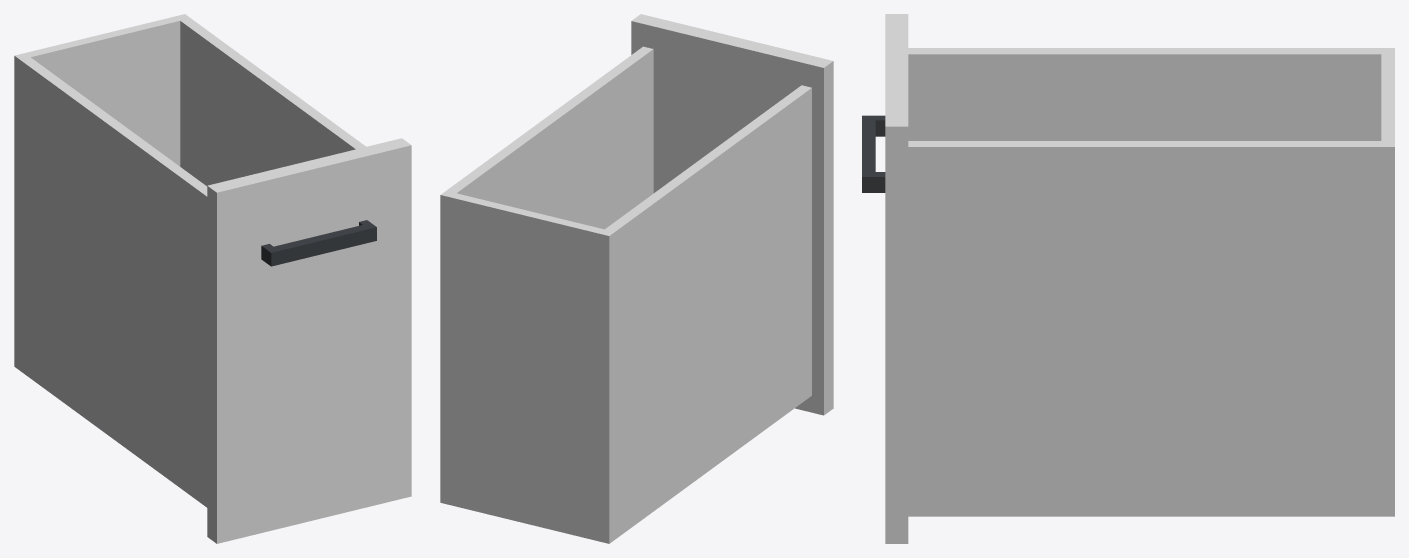
Rendered from Door2_C1_08.fbx.
3 views of the same model, side by side, from view 1: azimuth 30°, elevation 25°; view 2: azimuth 150°, elevation 25°; view 3: azimuth 270°, elevation 25° (orthographic). The views are drawn at different scales.
Visible parts, largest first — view 1: Door2_C1_08; view 2: Door2_C1_08; view 3: Door2_C1_08.
Boxes of the visible parts, bbox=[...] form: Door2_C1_08: bbox=[14, 14, 411, 543]; Door2_C1_08: bbox=[440, 14, 833, 543]; Door2_C1_08: bbox=[862, 14, 1394, 543].
Bounding box in the file's own units: 29 × 50 × 57.89.
